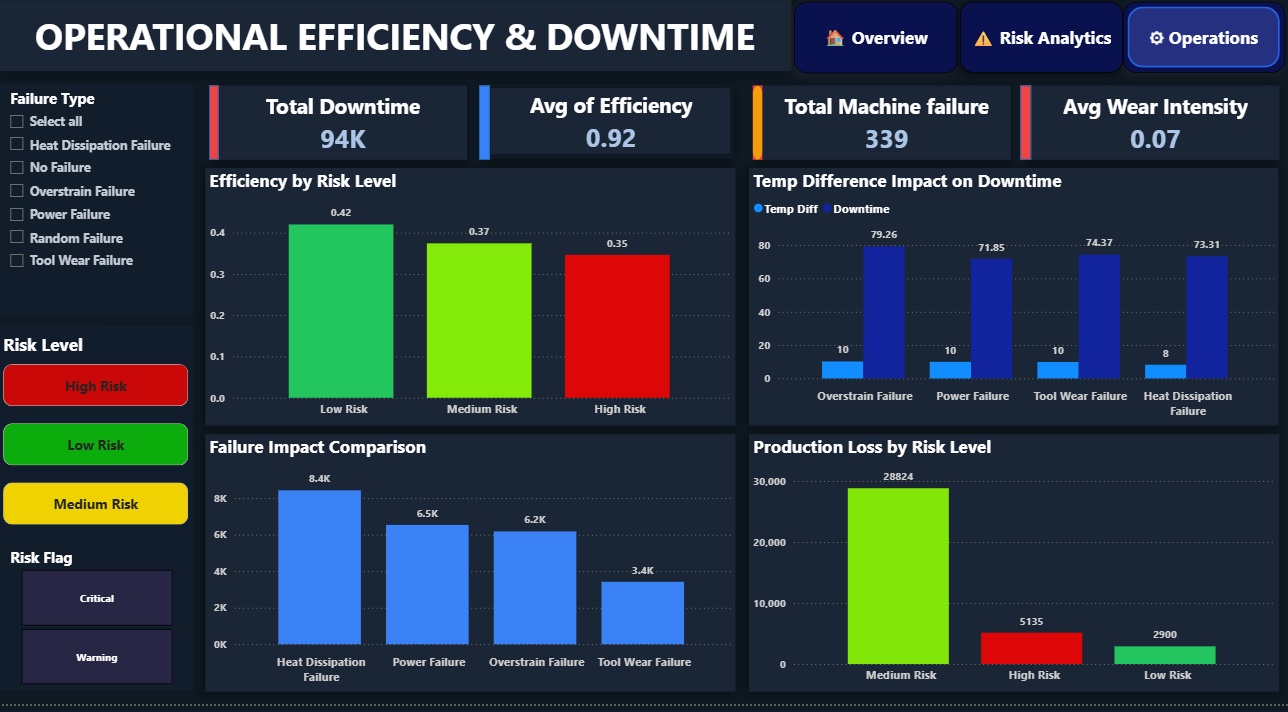

This screenshot's page, from the dashboard's own definition file:
{"tool":"powerbi","page":{"name":"Page 3","canvas":[1500,820],"ordinal":2},"visuals":[{"type":"cardVisual","title":"MANUFACTURING OPERATIONS OVERVIEW","fields":{"Data":["manufacturing_project machines_data.Page 3"]},"box":[0,0,920.6,85],"z":0},{"type":"slicer","fields":{"Values":["manufacturing_project machines_data.Failure_Type"]},"box":[0,100.3,225.6,268.8],"z":1000},{"type":"advancedSlicerVisual","title":"Risk Level","fields":{"Values":["manufacturing_project machines_data.Risk_Level"]},"box":[0,380.2,225.6,253.5],"z":2000},{"type":"slicer","fields":{"Values":["manufacturing_project machines_data.Risk_Flag"]},"box":[0,633.7,225.6,171.3],"z":3000},{"type":"actionButton","box":[924.1,4.2,190.2,83.1],"z":4000},{"type":"actionButton","box":[1305.7,4.4,188.8,82.8],"z":5000},{"type":"actionButton","box":[1116.9,4.4,188.8,82.8],"z":6000},{"type":"cardVisual","fields":{"Data":["Sum(manufacturing_project machines_data.Downtime_min)"]},"box":[253.5,101.7,289.7,86.4],"z":7000},{"type":"shape","box":[243.8,101.7,11.1,86.4],"z":8000},{"type":"cardVisual","fields":{"Data":["Avg(manufacturing_project machines_data.Efficiency)"]},"box":[567,100.3,288.4,86],"z":9000},{"type":"shape","box":[557.2,101.7,12.5,86.4],"z":10000},{"type":"cardVisual","fields":{"Data":["Sum(manufacturing_project machines_data.Machine_failure)"]},"box":[886,101.7,289.7,86.4],"z":11000},{"type":"shape","box":[876.2,101.7,11.1,86.4],"z":12000},{"type":"cardVisual","fields":{"Data":["Avg(manufacturing_project machines_data.Wear_Intensity)"]},"box":[1198,101.7,289.7,86.4],"z":13000},{"type":"shape","box":[1186.9,101.7,12.5,86.4],"z":14000},{"type":"clusteredColumnChart","title":"Temp Difference Impact on Downtime","fields":{"Category":["manufacturing_project machines_data.Failure_Type"],"Y":["Avg(manufacturing_project machines_data.Temp_Diff)","Avg(manufacturing_project machines_data.Downtime_min)"]},"box":[871.8,197.8,615.6,299.4],"z":15000},{"type":"clusteredColumnChart","title":"Efficiency by Risk Level","fields":{"Category":["manufacturing_project machines_data.Risk_Level"],"Y":["Avg(manufacturing_project machines_data.Efficiency)"]},"box":[239.6,197.5,615.8,299.2],"z":16000},{"type":"columnChart","title":"Production Loss by Risk Level","fields":{"Category":["manufacturing_project machines_data.Risk_Level"],"Y":["Sum(manufacturing_project machines_data.Production_Loss)"]},"box":[871.4,506.9,615.8,299.2],"z":17000},{"type":"clusteredColumnChart","title":"Failure Impact Comparison","fields":{"Category":["manufacturing_project machines_data.Failure_Type"],"Y":["Sum(manufacturing_project machines_data.Downtime_min)"]},"box":[239.6,506.9,615.8,299.2],"z":18000}]}

Visuals, with their boxes in screenshot pixels (x1, y1, x2, y2), scaled from the page's 1500x820 canvas onto the 1288x712 screenshot:
"MANUFACTURING OPERATIONS OVERVIEW" cardVisual: select_region(0, 0, 790, 74)
slicer - manufacturing_project machines_data.Failure_Type: select_region(0, 87, 194, 320)
"Risk Level" advancedSlicerVisual: select_region(0, 330, 194, 550)
slicer - manufacturing_project machines_data.Risk_Flag: select_region(0, 550, 194, 699)
actionButton: select_region(793, 4, 957, 76)
actionButton: select_region(1121, 4, 1283, 76)
actionButton: select_region(959, 4, 1121, 76)
cardVisual - Sum(manufacturing_project machines_data.Downtime_min): select_region(218, 88, 466, 163)
shape: select_region(209, 88, 219, 163)
cardVisual - Avg(manufacturing_project machines_data.Efficiency): select_region(487, 87, 735, 162)
shape: select_region(478, 88, 489, 163)
cardVisual - Sum(manufacturing_project machines_data.Machine_failure): select_region(761, 88, 1010, 163)
shape: select_region(752, 88, 762, 163)
cardVisual - Avg(manufacturing_project machines_data.Wear_Intensity): select_region(1029, 88, 1277, 163)
shape: select_region(1019, 88, 1030, 163)
"Temp Difference Impact on Downtime" clusteredColumnChart: select_region(749, 172, 1277, 432)
"Efficiency by Risk Level" clusteredColumnChart: select_region(206, 171, 735, 431)
"Production Loss by Risk Level" columnChart: select_region(748, 440, 1277, 700)
"Failure Impact Comparison" clusteredColumnChart: select_region(206, 440, 735, 700)
